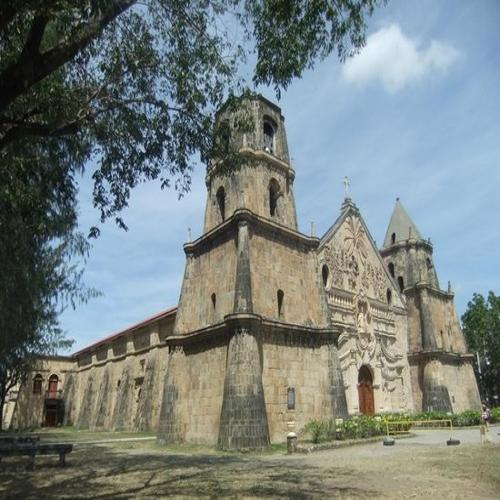Miagao Church: (170, 81, 490, 444)
